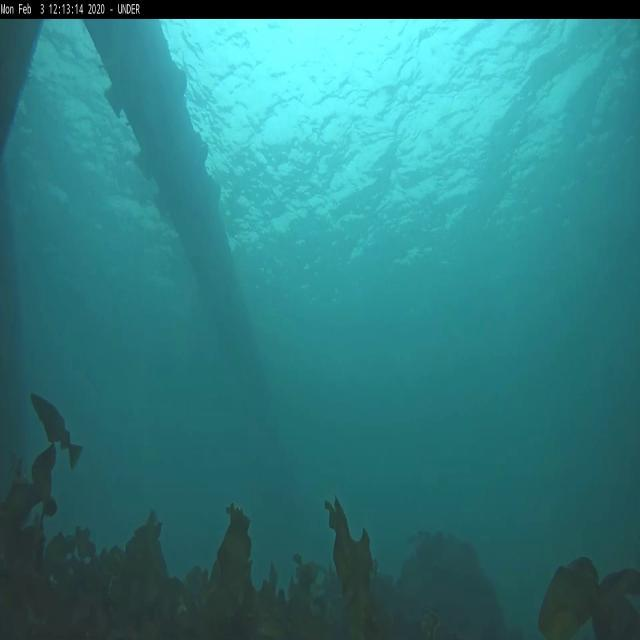fish: (28, 392, 84, 467)
